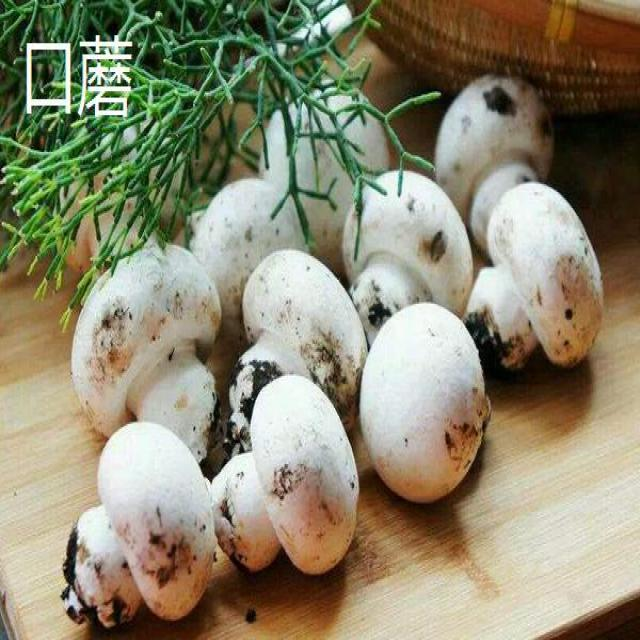Agaricus bisporus: (73, 244, 221, 449), (207, 377, 356, 575), (70, 424, 212, 623), (359, 303, 487, 497), (475, 181, 605, 370), (234, 249, 366, 419), (342, 173, 470, 332)
